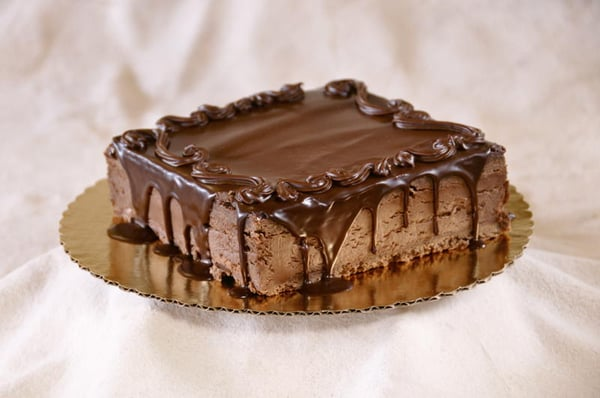sushi: (97, 77, 523, 315)
